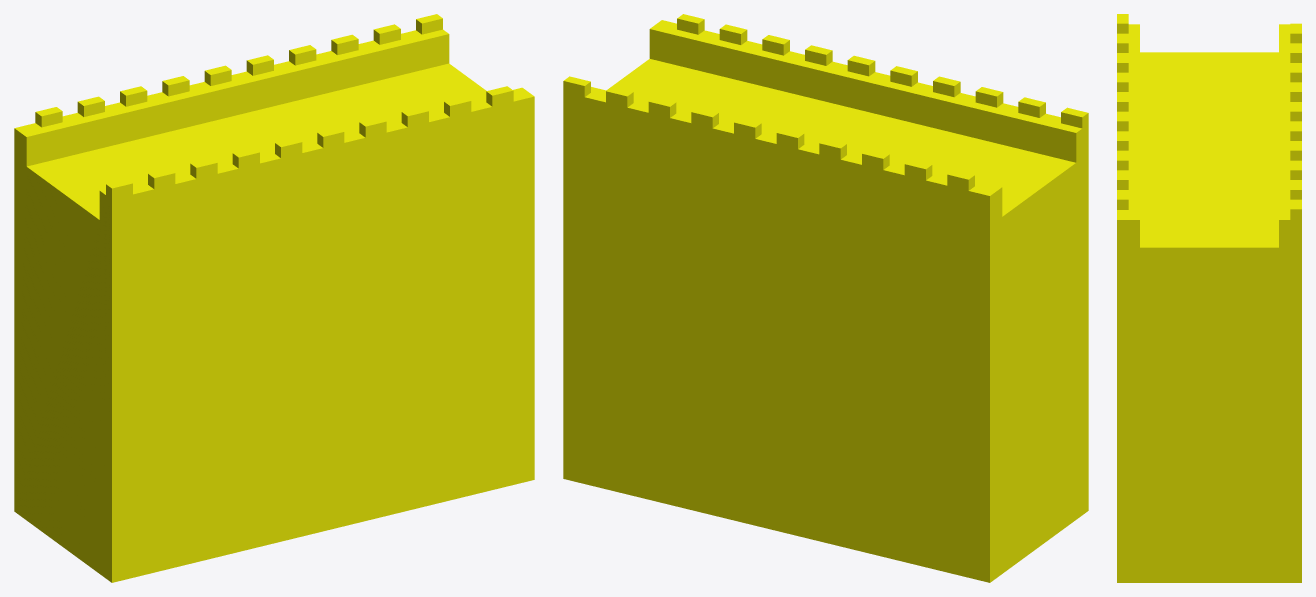
The model's file is voxel-knights-wall.glb.
3 renders of one model, left to right at view 1: azimuth 30°, elevation 25°; view 2: azimuth 150°, elevation 25°; view 3: azimuth 270°, elevation 25°, orthographic. The views are drawn at different scales.
Parts seen in each view (by area): view 1: ObjObject.003; view 2: ObjObject.003; view 3: ObjObject.003.
Part boxes in pixels (<box>): ObjObject.003: <box>14,14,534,582</box>; ObjObject.003: <box>563,14,1088,582</box>; ObjObject.003: <box>1117,14,1301,582</box>.
Bounding box in the file's own units: 12 × 10.7 × 4.8.
